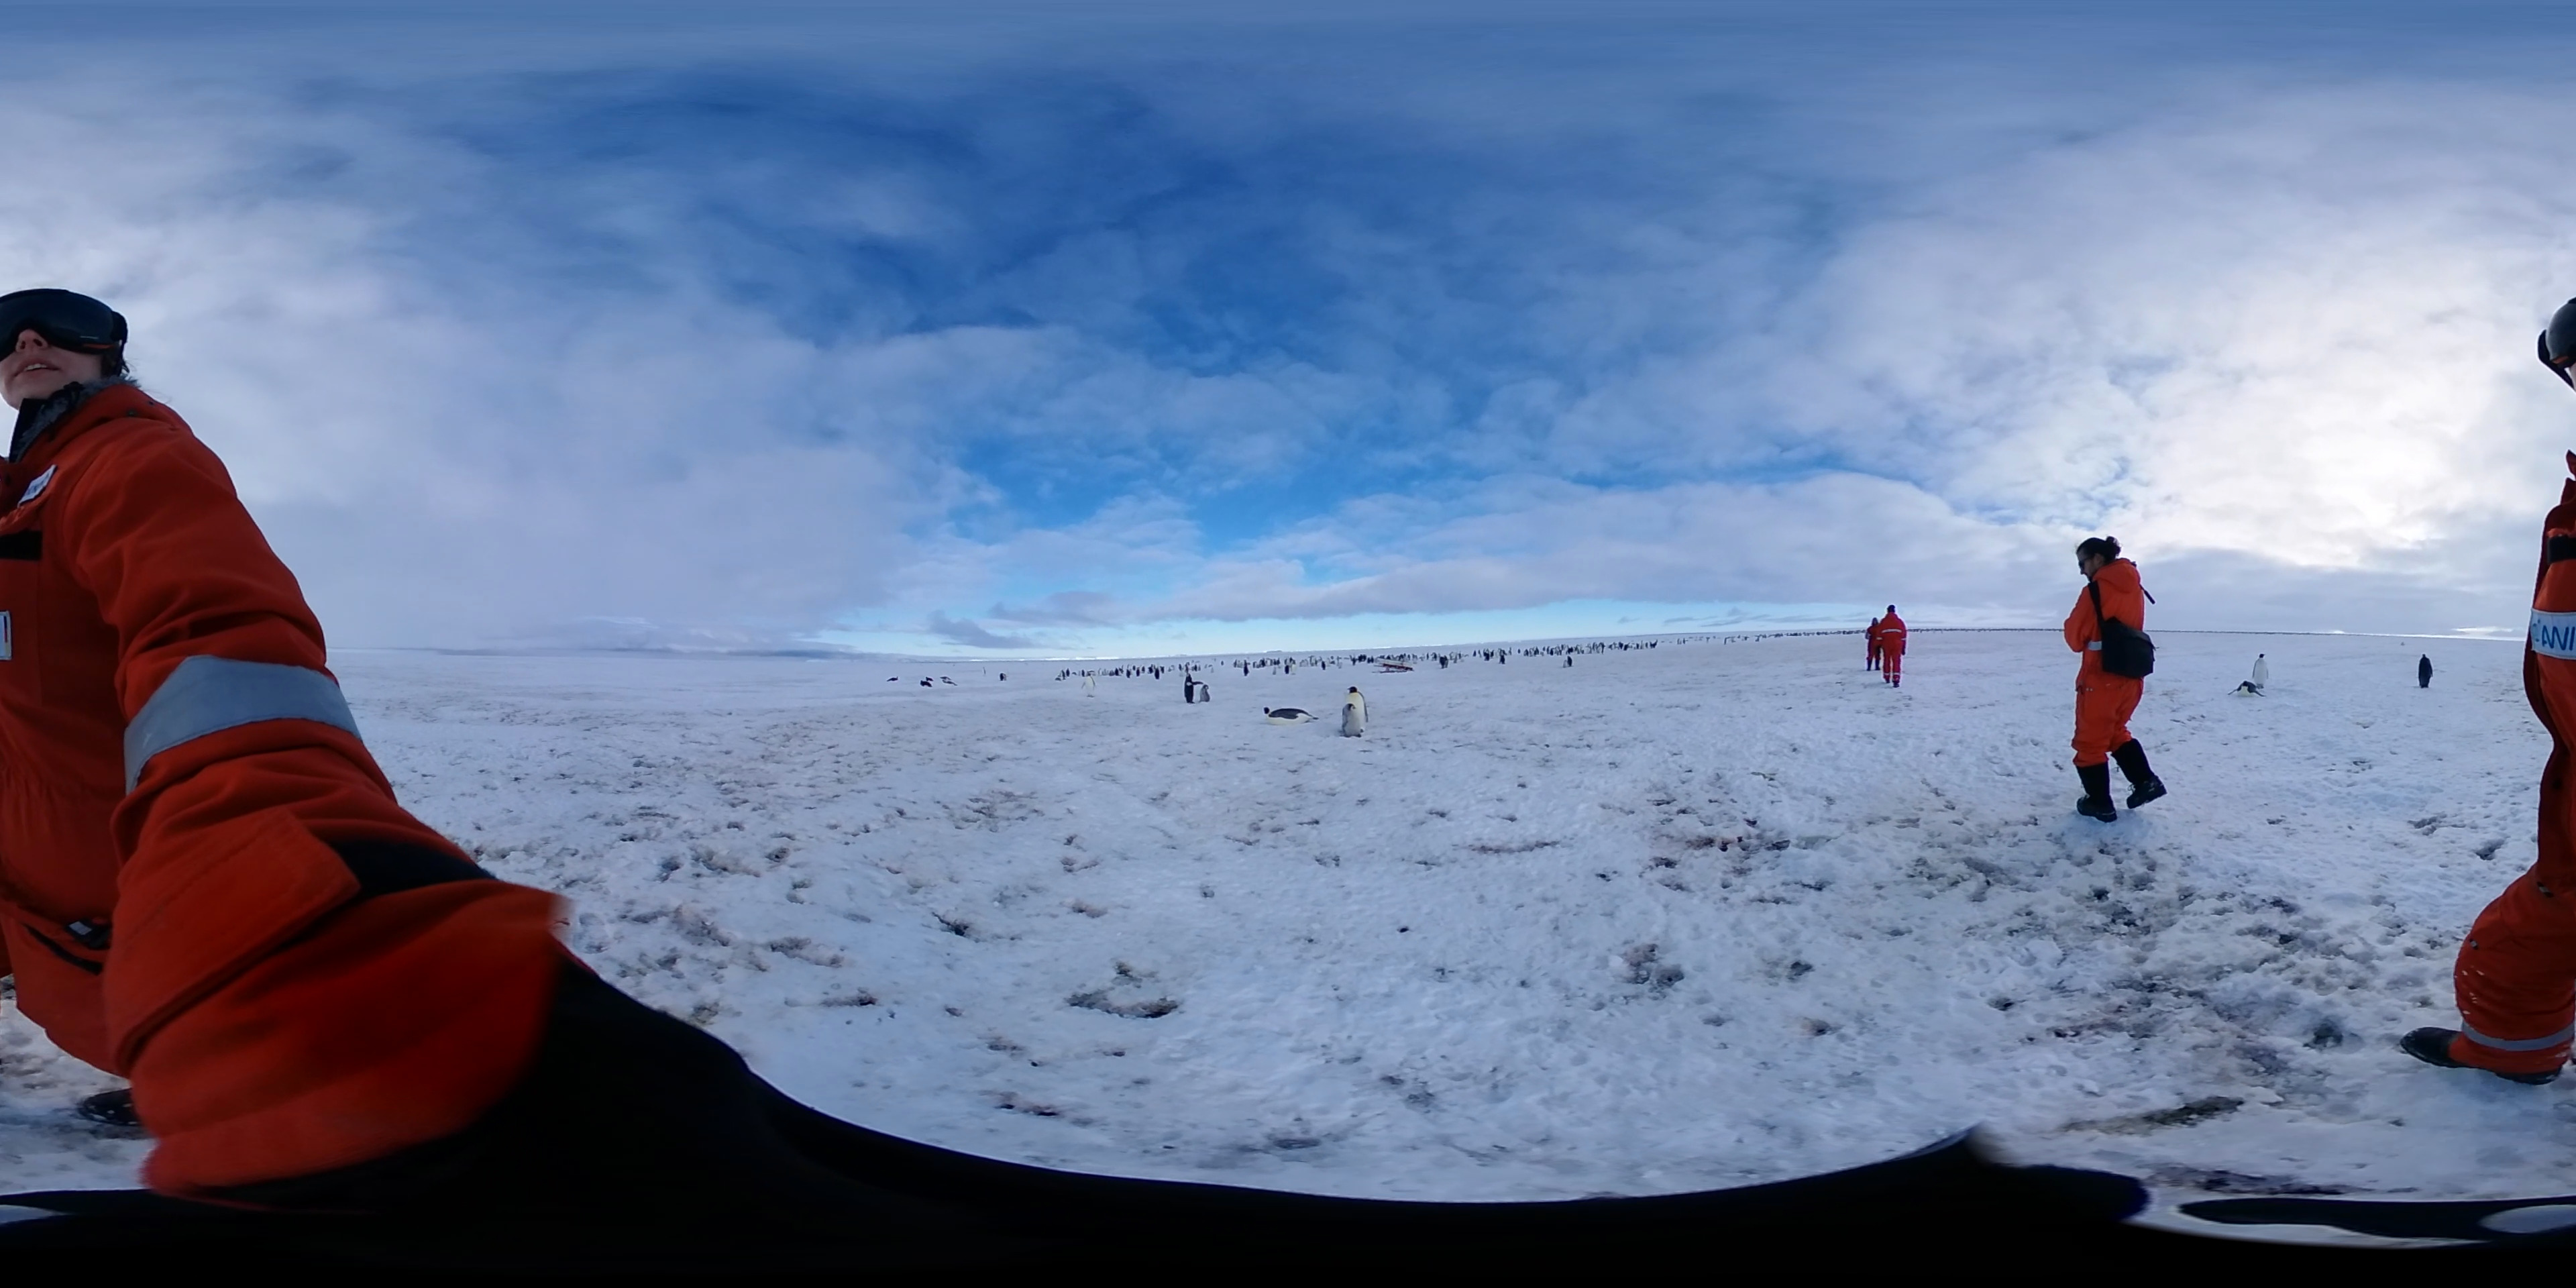adult_standing_penguin: (1342, 685, 1368, 736), (2417, 651, 2436, 690), (1180, 672, 1201, 706), (2252, 654, 2272, 690), (1083, 672, 1096, 700)
adult_toboggan_penguin: (1260, 705, 1321, 726), (2228, 680, 2269, 700)
juvenile_penguin: (1339, 703, 1364, 739), (1196, 683, 1212, 705)
researcher: (3, 276, 570, 1160), (2057, 532, 2170, 828), (1878, 605, 1911, 690), (1863, 618, 1881, 674)
